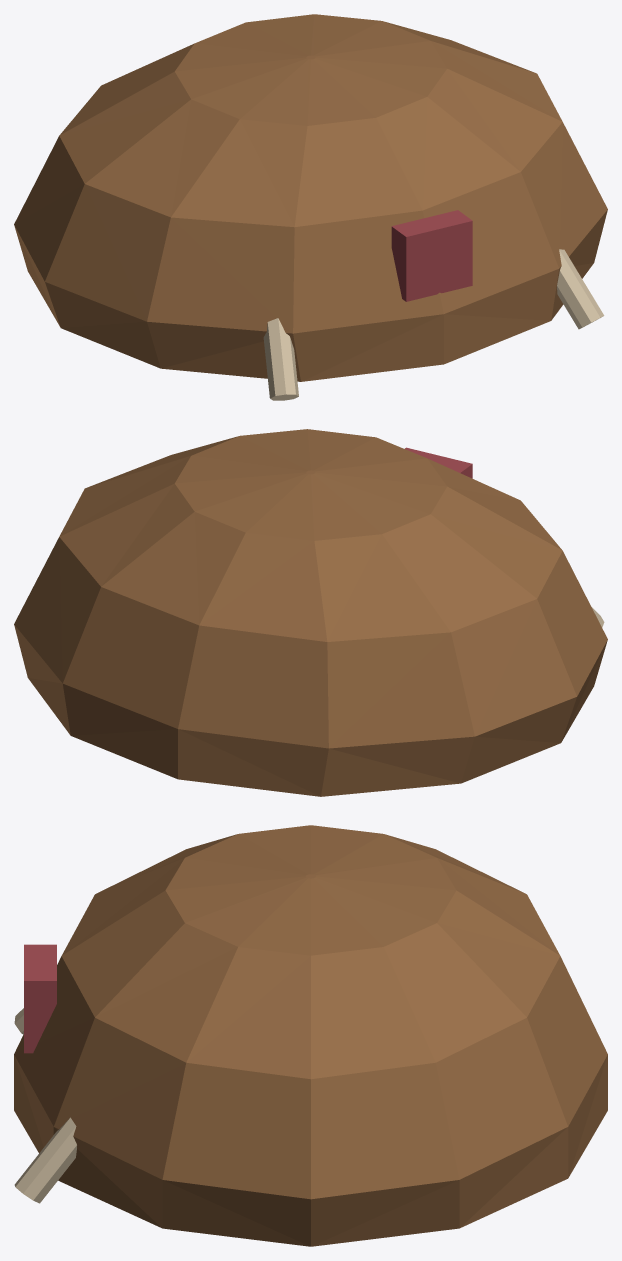
The model's file is icinghelm.glb.
The picture shows the model from 3 angles, top to bottom: view 1: azimuth 30°, elevation 25°; view 2: azimuth 150°, elevation 25°; view 3: azimuth 270°, elevation 25°; orthographic projection. The views are drawn at different scales.
Parts seen in each view (by area): view 1: Icing Helmet.002; view 2: Icing Helmet.002; view 3: Icing Helmet.002.
Boxes of the visible parts, bbox=[...] form: Icing Helmet.002: bbox=[14, 14, 607, 400]; Icing Helmet.002: bbox=[14, 429, 607, 796]; Icing Helmet.002: bbox=[14, 825, 607, 1246].
Bounding box in the file's own units: 0.6864 × 0.2681 × 0.594.
